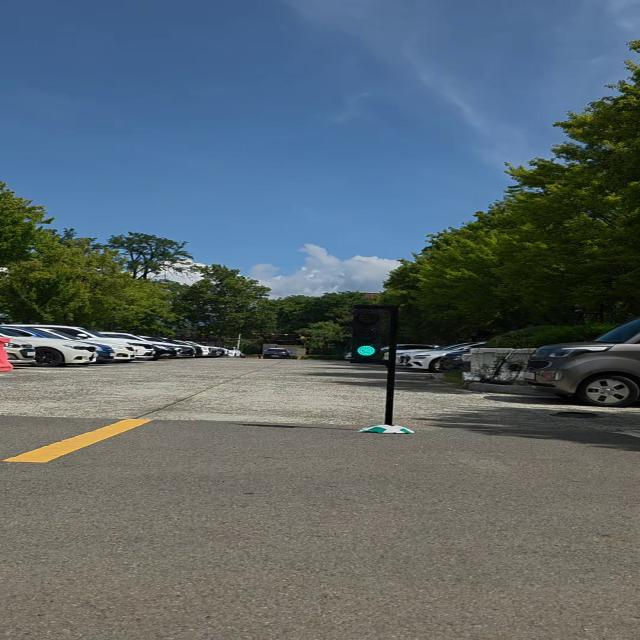green: (351, 303, 388, 360)
